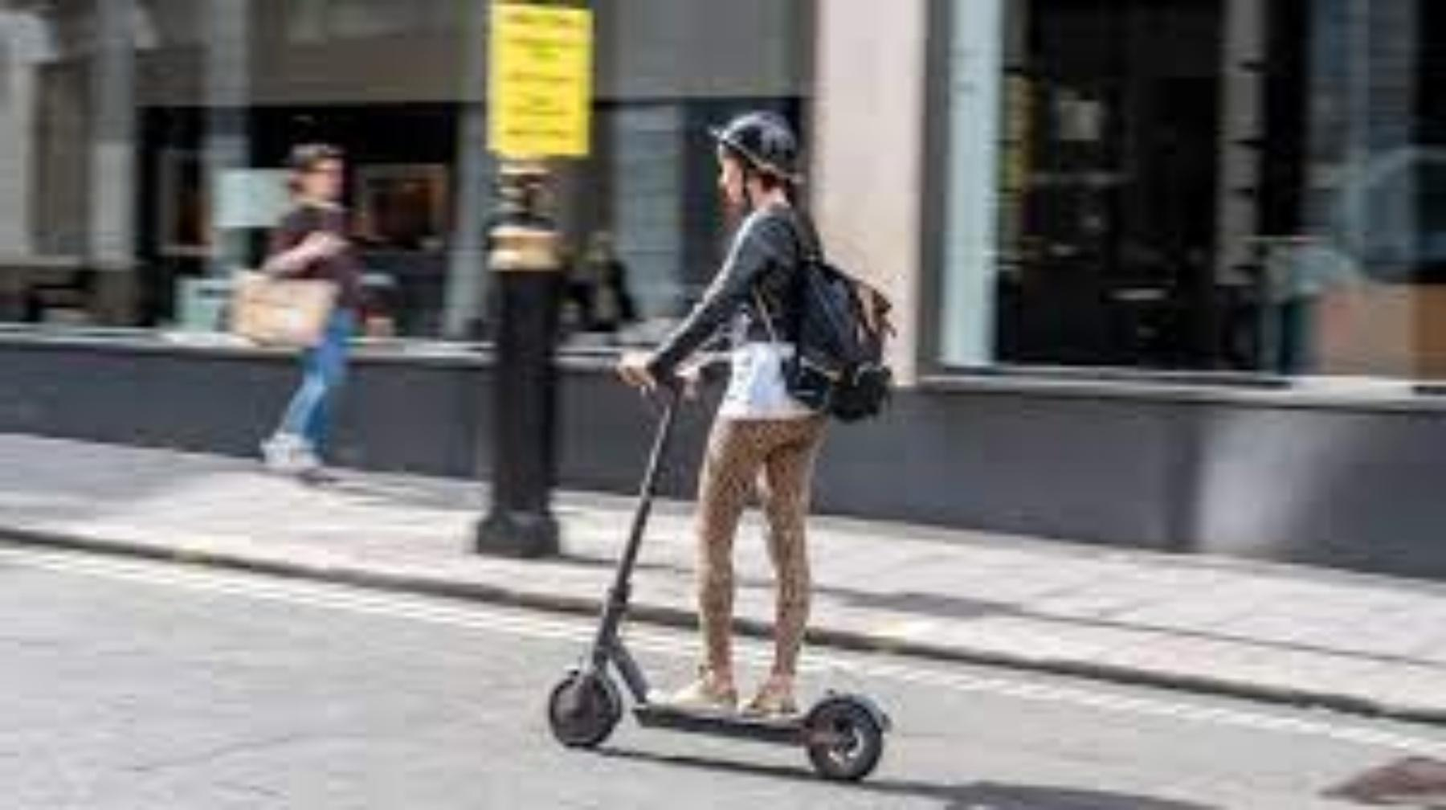helmet: (709, 103, 798, 214)
human: (627, 107, 886, 707)
kickboard: (537, 668, 891, 783)
